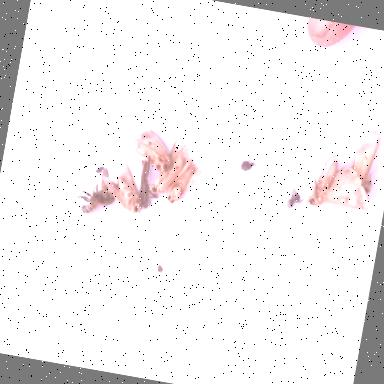abw: (304, 146, 382, 218), (94, 154, 160, 228), (344, 121, 384, 198), (148, 134, 194, 200), (162, 148, 210, 210), (123, 120, 177, 174)
